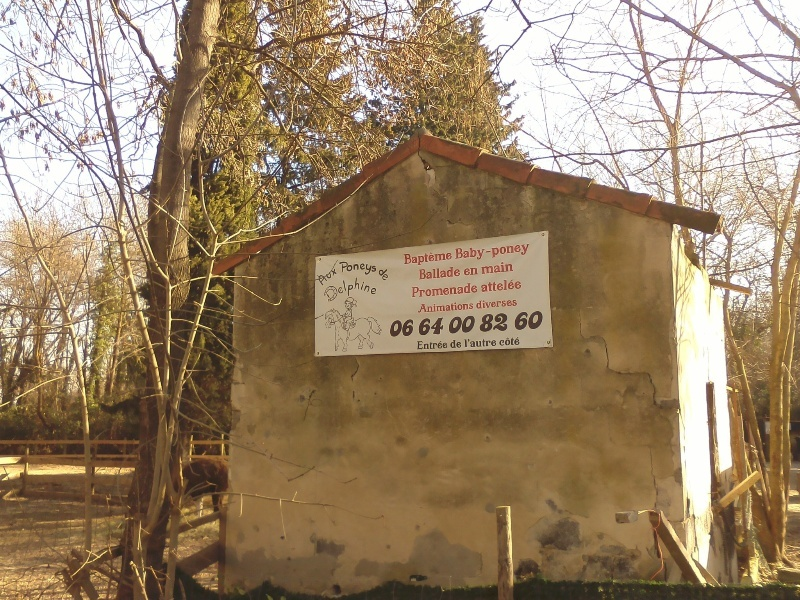text: (337, 274, 352, 305), (353, 274, 368, 305), (369, 274, 384, 305), (322, 274, 336, 305), (321, 266, 336, 290), (529, 309, 545, 331), (465, 242, 480, 263), (481, 242, 496, 263), (497, 242, 512, 263), (513, 242, 528, 263), (481, 313, 496, 334), (353, 258, 368, 278), (449, 315, 464, 335), (515, 309, 528, 331), (401, 318, 415, 338), (497, 313, 510, 334), (339, 258, 352, 278), (369, 258, 382, 278), (419, 317, 432, 336), (417, 283, 432, 299), (433, 283, 448, 299), (449, 283, 464, 299), (417, 251, 432, 267), (433, 251, 448, 267), (433, 317, 445, 336), (481, 278, 496, 293), (497, 278, 512, 293), (481, 261, 496, 276), (497, 261, 512, 276), (465, 283, 479, 299), (385, 262, 395, 284), (465, 315, 476, 335), (454, 242, 464, 263), (433, 267, 448, 281), (417, 302, 432, 315), (433, 302, 448, 315), (449, 302, 464, 315), (481, 297, 496, 310), (497, 297, 512, 310), (404, 251, 416, 267), (419, 267, 432, 281), (449, 267, 462, 281), (513, 278, 525, 293), (433, 340, 449, 351), (481, 338, 497, 349), (417, 340, 432, 351), (465, 338, 480, 349), (392, 318, 400, 338), (498, 336, 512, 347), (450, 339, 464, 349), (465, 302, 475, 315), (315, 266, 320, 290), (449, 251, 456, 267), (465, 268, 479, 276), (411, 283, 416, 299), (513, 336, 520, 347), (337, 266, 340, 290), (513, 297, 518, 310), (476, 297, 480, 310), (529, 242, 531, 263), (513, 261, 515, 276), (383, 262, 384, 284), (463, 338, 464, 349)
